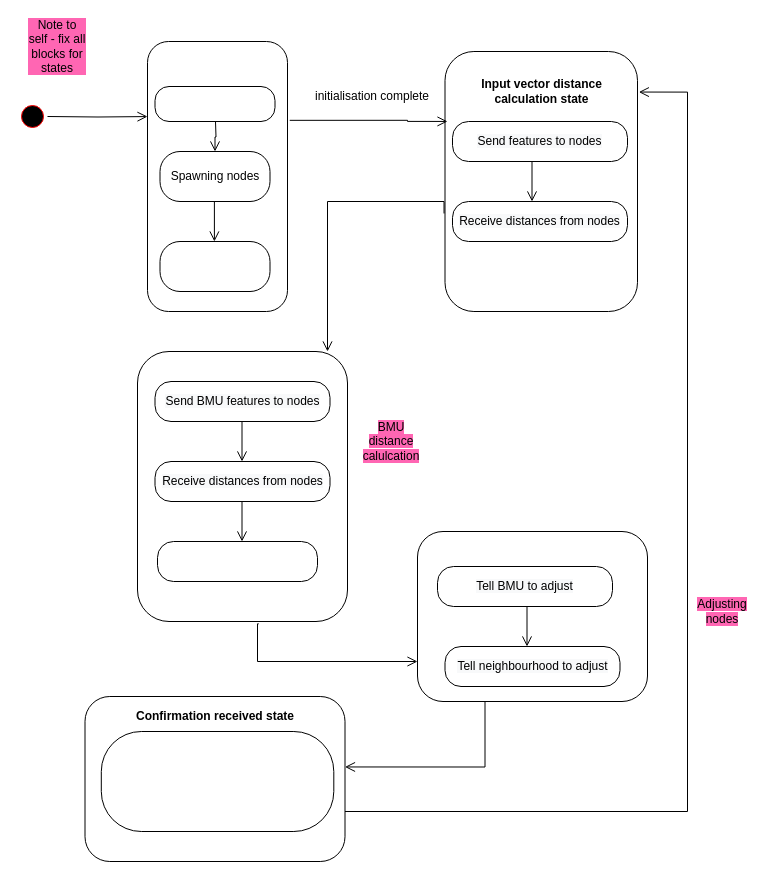
Image size: 775x879. Some labels were removed from this diagram. The centre of each missing label's shape, as x and y in pixels:
Check if node is influenced: point 237,561
Creating: point 214,104
Creating data actor: point 214,266
Receive confirmation from BMU and neighbourhood that weights are adjusted: point 217,781
